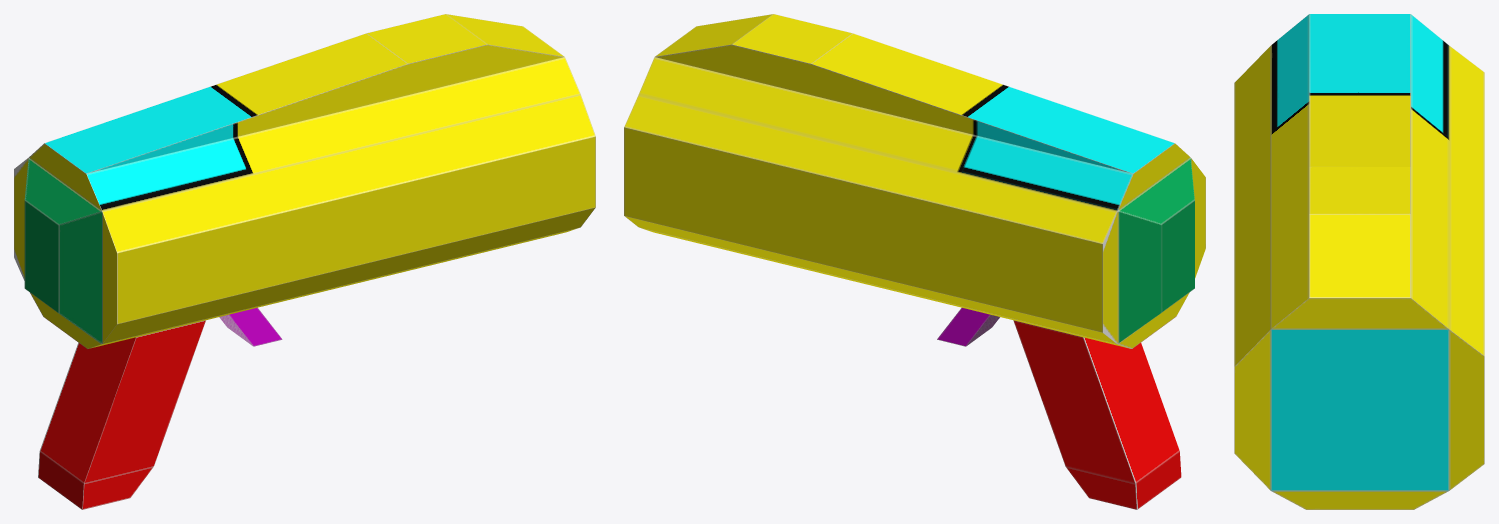
The model's file is magnet_gun.fbx.
3 views of the same model, side by side, from view 1: azimuth 30°, elevation 25°; view 2: azimuth 150°, elevation 25°; view 3: azimuth 270°, elevation 25° (orthographic). The views are drawn at different scales.
Parts seen in each view (by area): view 1: pCube1; view 2: pCube1; view 3: pCube1.
Boxes of the visible parts, box(x1,y1,x2,y2) form: pCube1: box(14, 14, 595, 509); pCube1: box(624, 14, 1205, 509); pCube1: box(1234, 14, 1484, 509).
Bounding box in the file's own units: 15.02 × 10.43 × 5.34.
